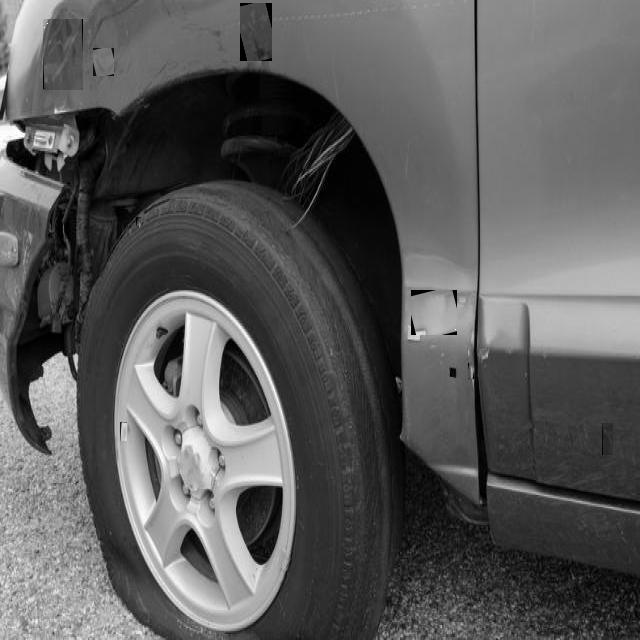Dent: (43, 19, 83, 92), (411, 290, 457, 335), (240, 3, 272, 61), (93, 48, 114, 76), (602, 423, 613, 455), (120, 422, 127, 441), (468, 364, 474, 382), (480, 348, 488, 361), (136, 217, 141, 226)
